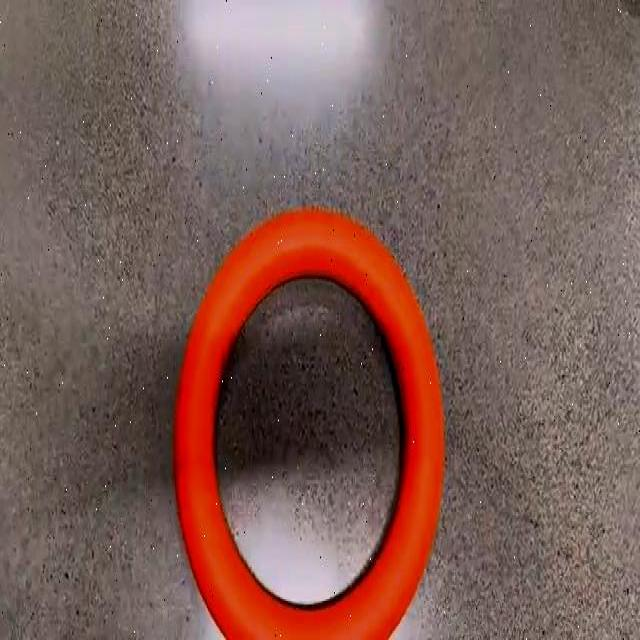note: (175, 209, 444, 638)
